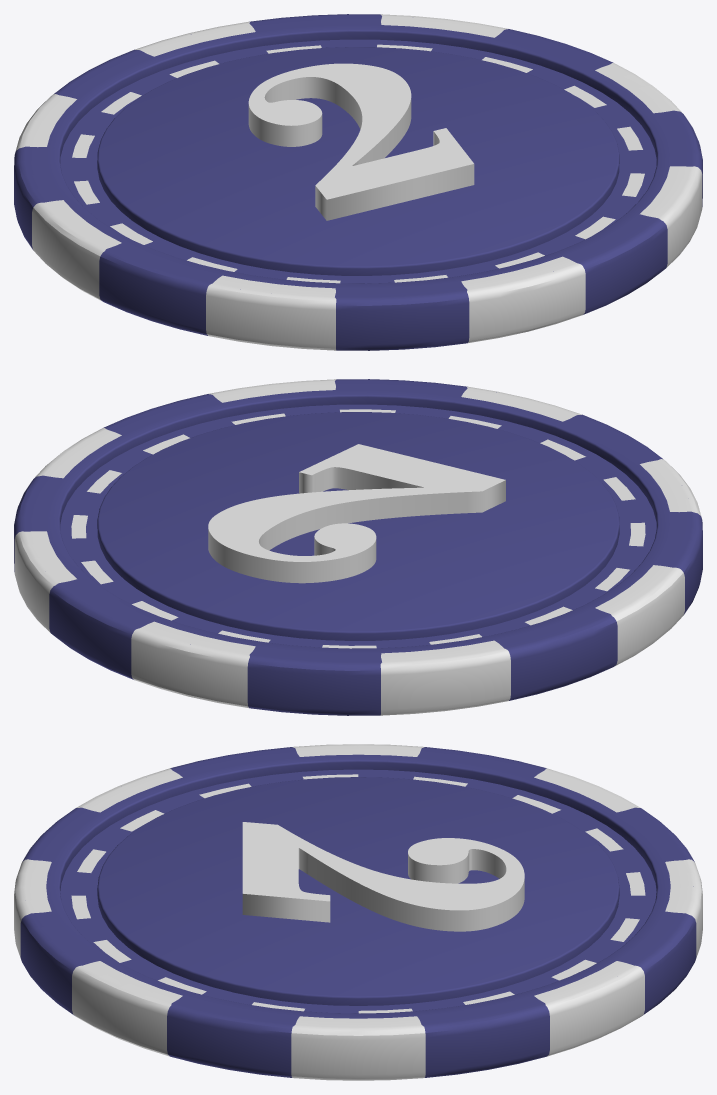
Rendered from 2_coin.glb.
3 renders of one model, top to bottom at view 1: azimuth 30°, elevation 25°; view 2: azimuth 150°, elevation 25°; view 3: azimuth 270°, elevation 25°, orthographic.
Visible parts, largest first — view 1: Chip.007, Text.003; view 2: Chip.007, Text.003; view 3: Chip.007, Text.003.
Boxes of the visible parts, <box> form: Chip.007: <box>14,14,702,350</box>; Text.003: <box>248,63,474,220</box>; Chip.007: <box>14,379,702,715</box>; Text.003: <box>208,444,505,583</box>; Chip.007: <box>14,744,702,1080</box>; Text.003: <box>242,822,524,931</box>.
Size of the model in its own units: 5.28 by 0.8 by 5.28.
